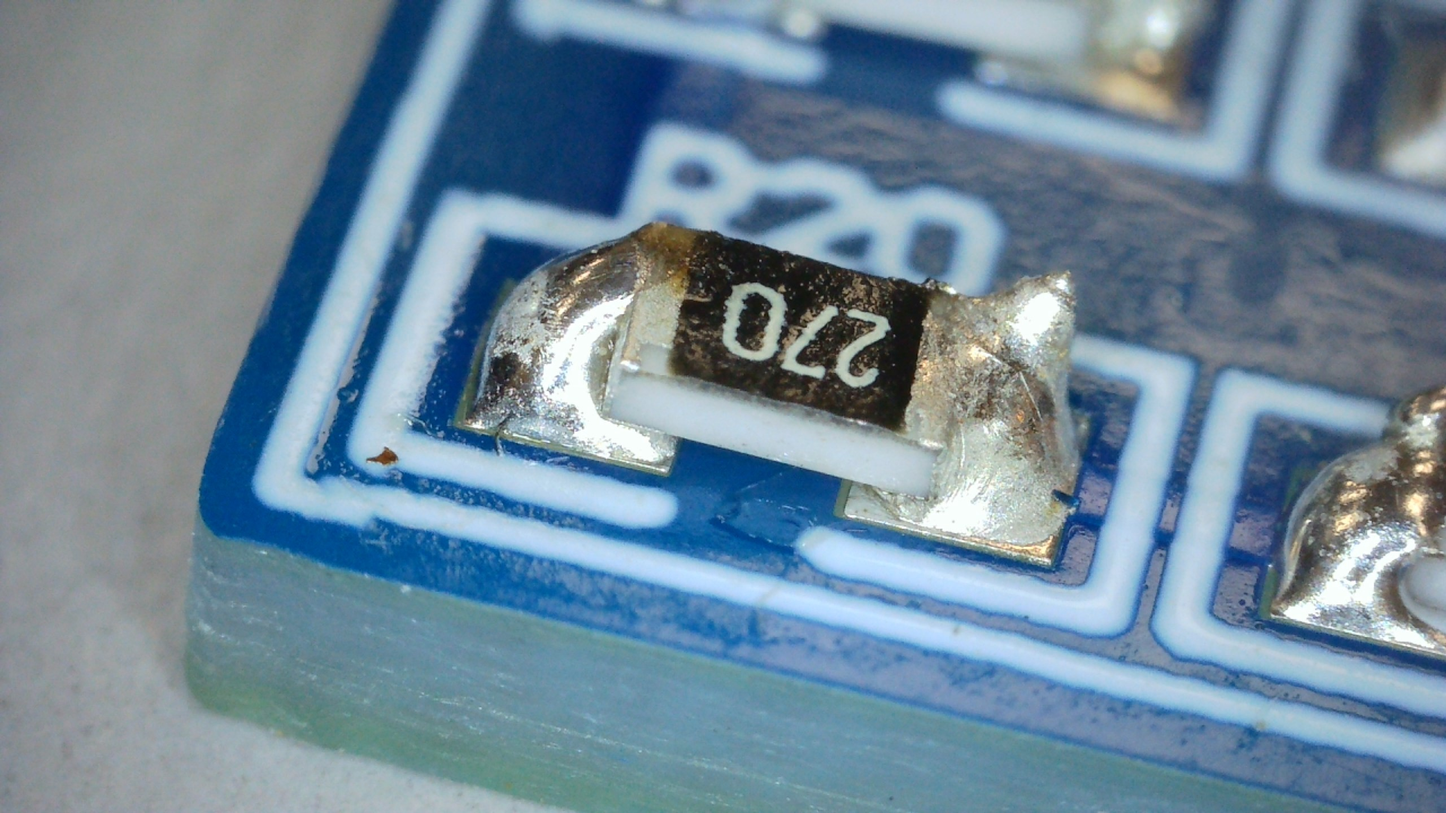NG: (472, 222, 695, 461), (934, 269, 1080, 547)
